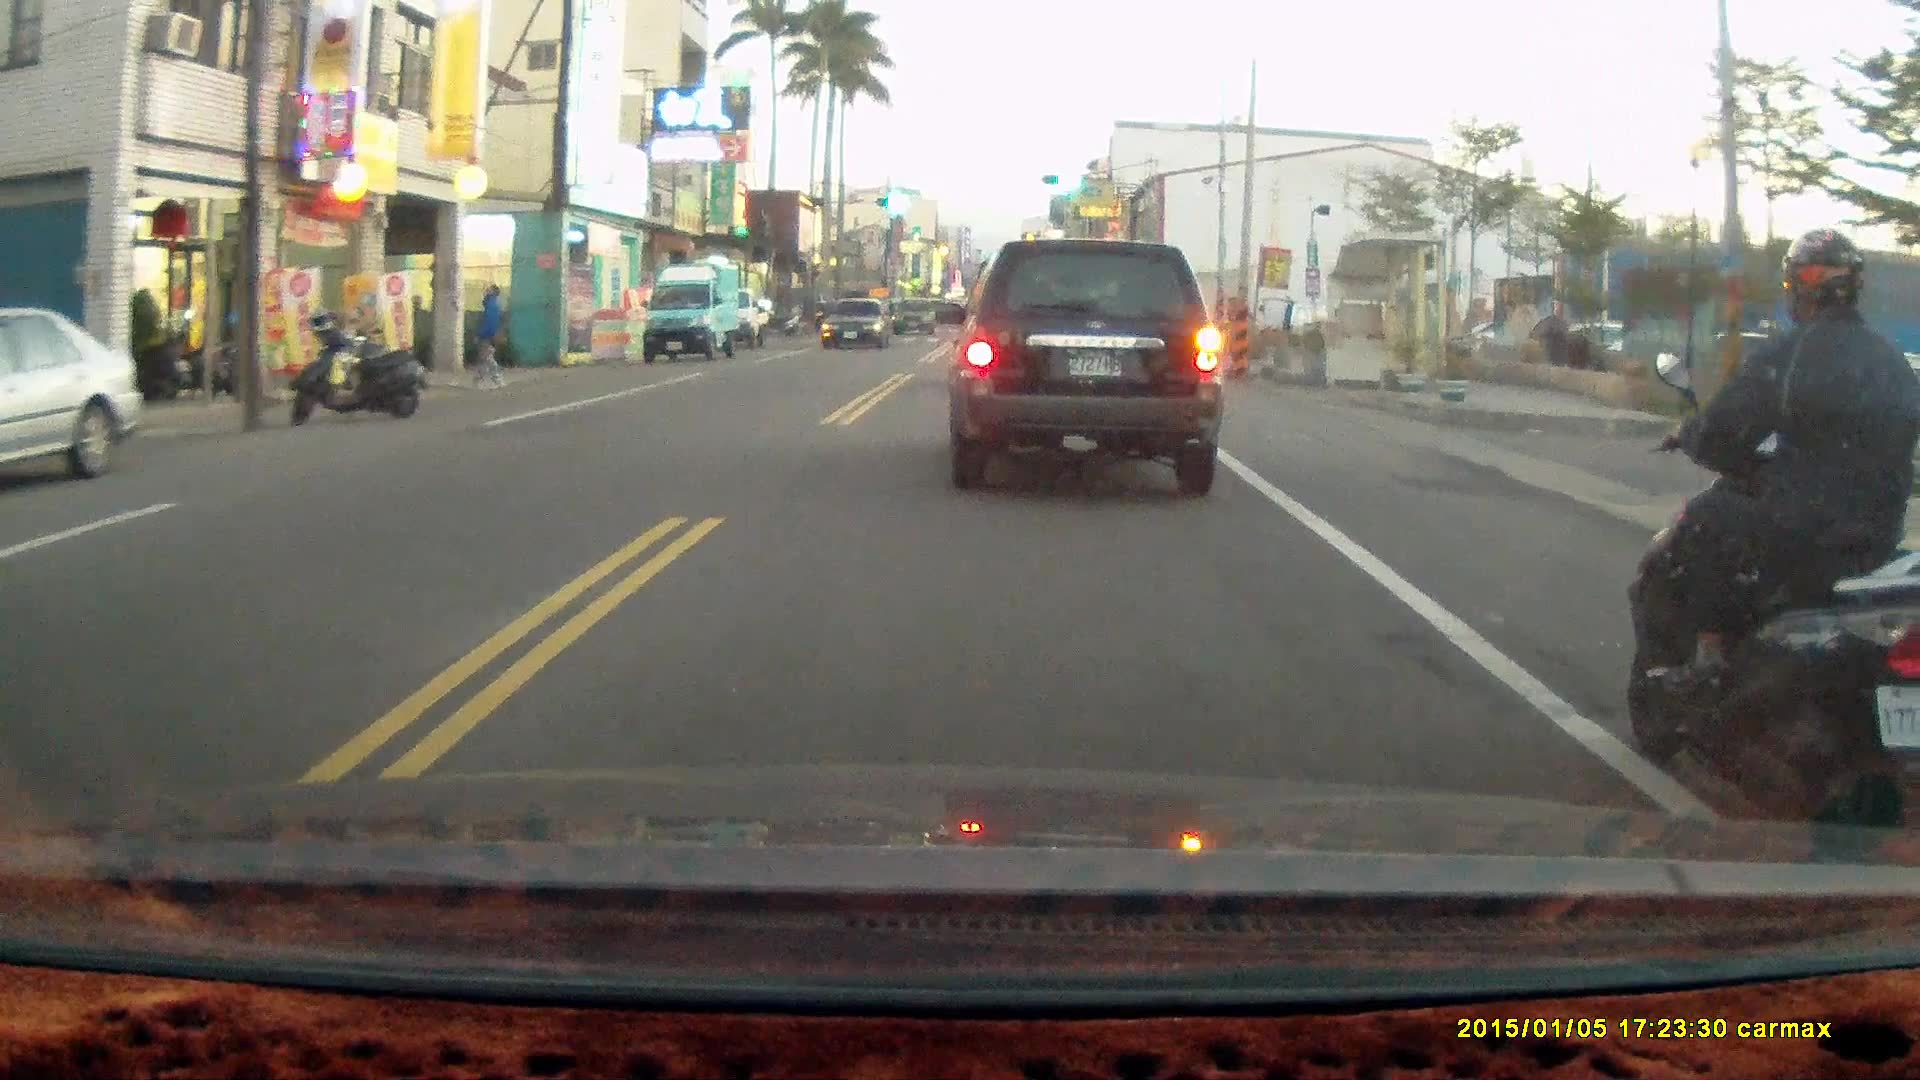pedestrian: (472, 278, 507, 384)
rider: (1622, 224, 1920, 857)
vehicle: (944, 236, 1225, 504), (1, 302, 145, 492), (643, 257, 747, 365), (820, 296, 897, 348)
